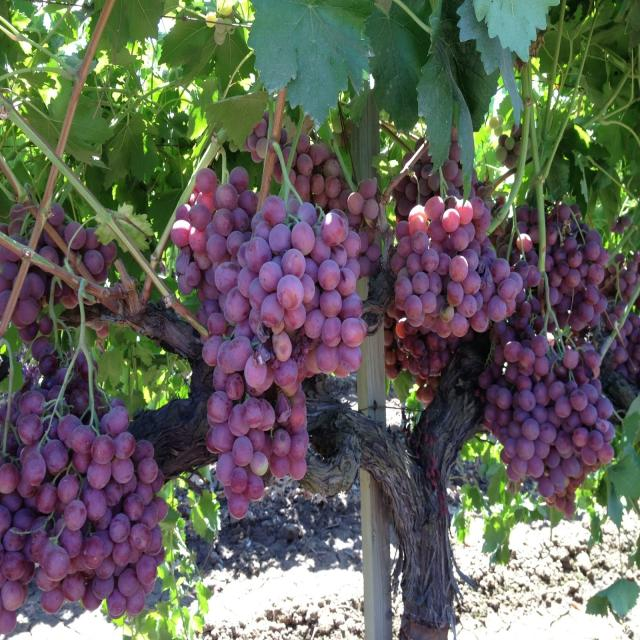grape: (170, 115, 614, 518), (0, 97, 168, 633), (170, 112, 380, 518), (0, 267, 168, 634), (48, 204, 116, 279)
